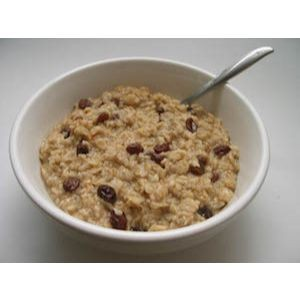oat_brain food: (52, 103, 225, 200)
